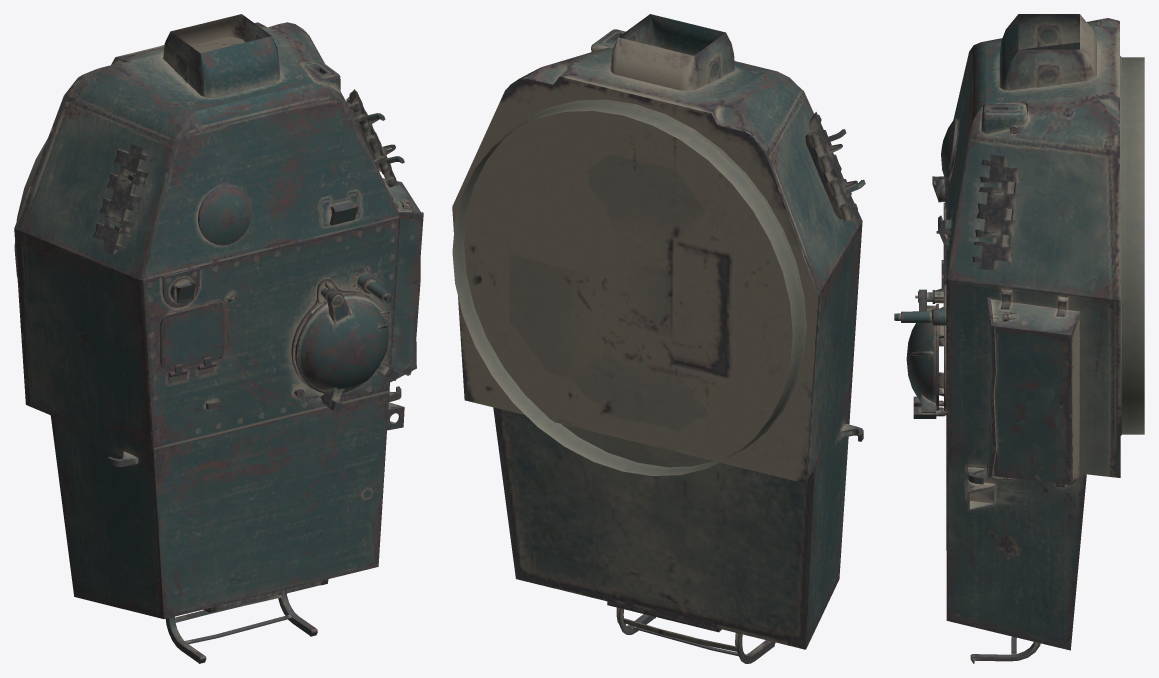
The model's file is Turret_01.glb.
3 views of the same model, side by side, from view 1: azimuth 30°, elevation 25°; view 2: azimuth 150°, elevation 25°; view 3: azimuth 270°, elevation 25° (orthographic). The views are drawn at different scales.
Visible parts, largest first — view 1: set_0_group_0; view 2: set_0_group_0; view 3: set_0_group_0.
Part boxes in pixels (<box>): set_0_group_0: <box>14,14,423,663</box>; set_0_group_0: <box>452,14,865,663</box>; set_0_group_0: <box>894,14,1144,663</box>.
Bounding box in the file's own units: 2.46 × 3.81 × 1.43.
1 material, 1 textured.
